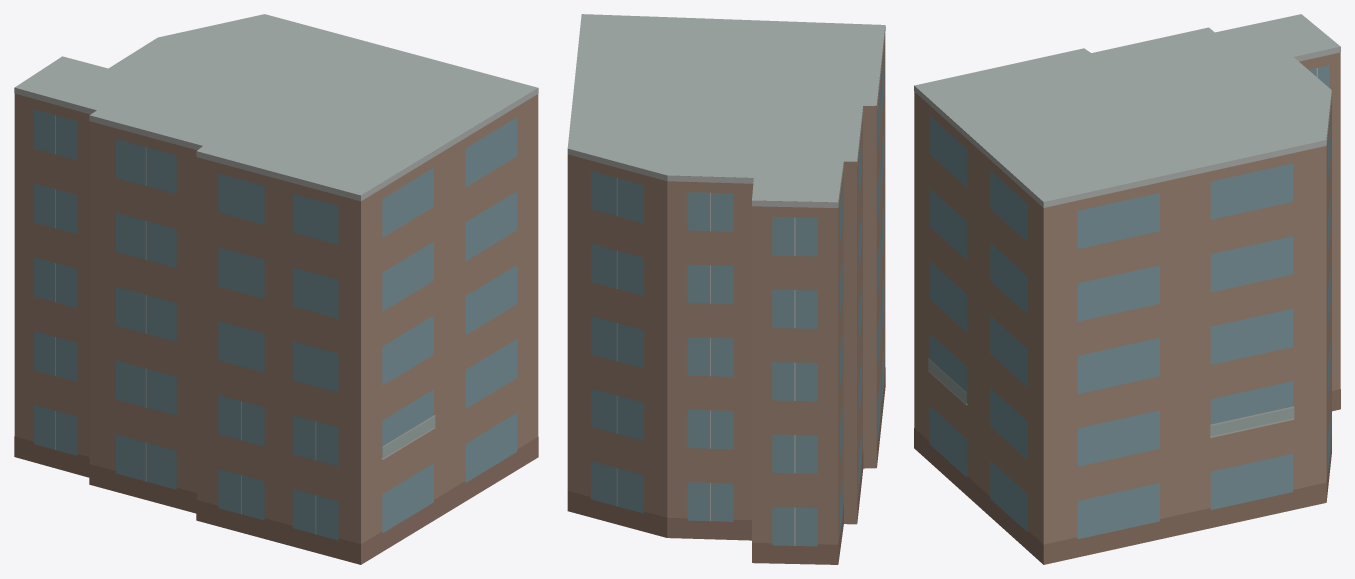
The model's file is survey-upis-32872446.glb.
3 views of the same model, side by side, from view 1: azimuth 30°, elevation 25°; view 2: azimuth 150°, elevation 25°; view 3: azimuth 270°, elevation 25° (orthographic).
Visible parts, largest first — view 1: survey-upis-32872446.tmp; view 2: survey-upis-32872446.tmp; view 3: survey-upis-32872446.tmp.
Boxes of the visible parts, x1,y1,x2,y2 form: survey-upis-32872446.tmp: (14, 14, 538, 564); survey-upis-32872446.tmp: (567, 14, 885, 564); survey-upis-32872446.tmp: (914, 14, 1340, 564).
Size of the model in its own units: 16.98 by 15.25 by 16.27.
